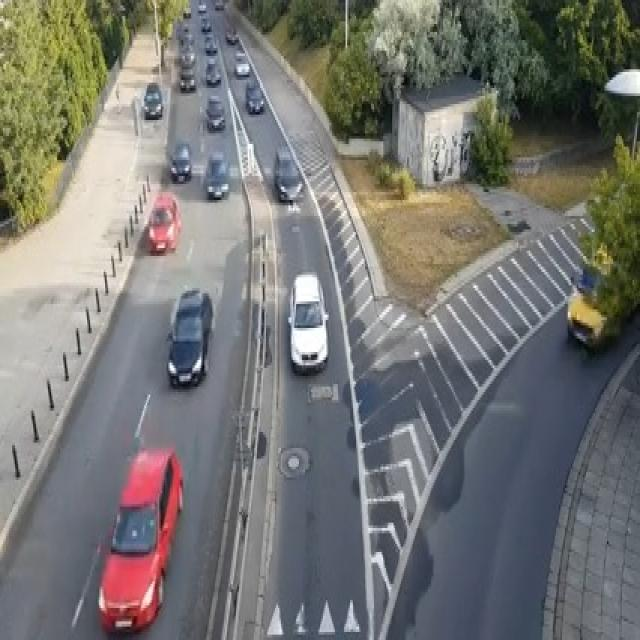car: (96, 445, 183, 635), (165, 285, 212, 387), (287, 272, 329, 373), (566, 262, 612, 350), (147, 192, 180, 253), (274, 144, 304, 203), (204, 150, 228, 198), (170, 142, 191, 182), (204, 93, 226, 131), (245, 77, 264, 112), (143, 83, 162, 117), (204, 59, 221, 85), (233, 48, 249, 75), (179, 66, 195, 90), (179, 50, 195, 66), (179, 32, 194, 48), (204, 35, 217, 53), (225, 27, 238, 42), (200, 16, 210, 32), (213, 0, 224, 11), (183, 3, 191, 16), (197, 0, 206, 11)
